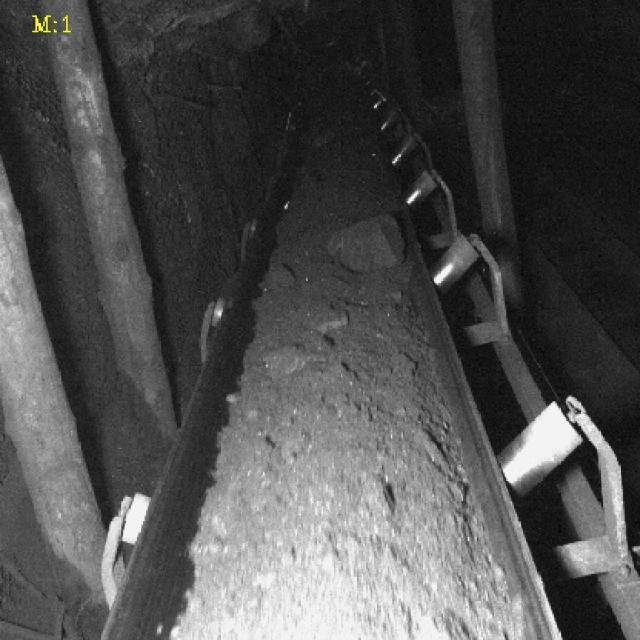large_sized_coal: (329, 211, 409, 274)
